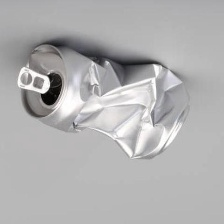can: (11, 32, 204, 164)
